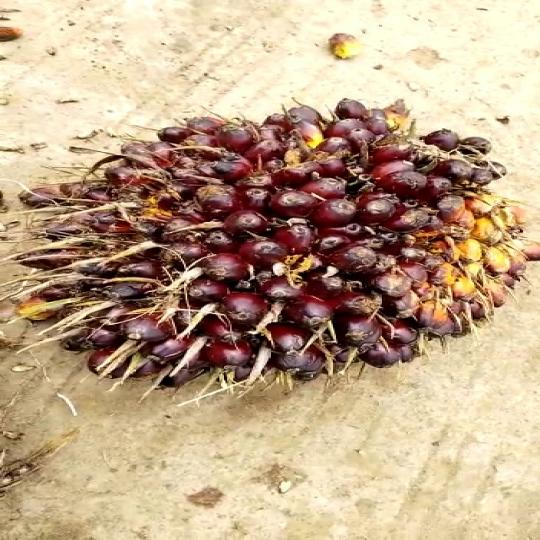kurang masak: (12, 88, 540, 380)
